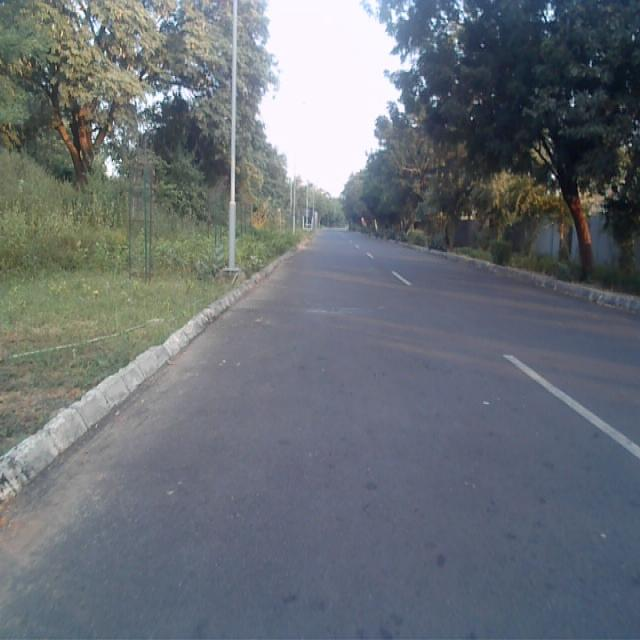lane: (0, 232, 640, 640)
